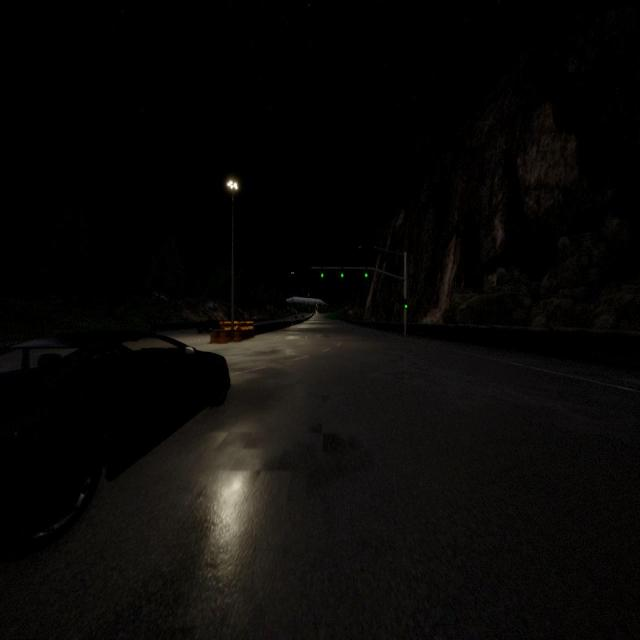Vehicle: (1, 330, 232, 552)
traffic_light: (403, 299, 408, 309), (364, 267, 368, 278), (340, 267, 344, 278), (321, 268, 324, 278)
